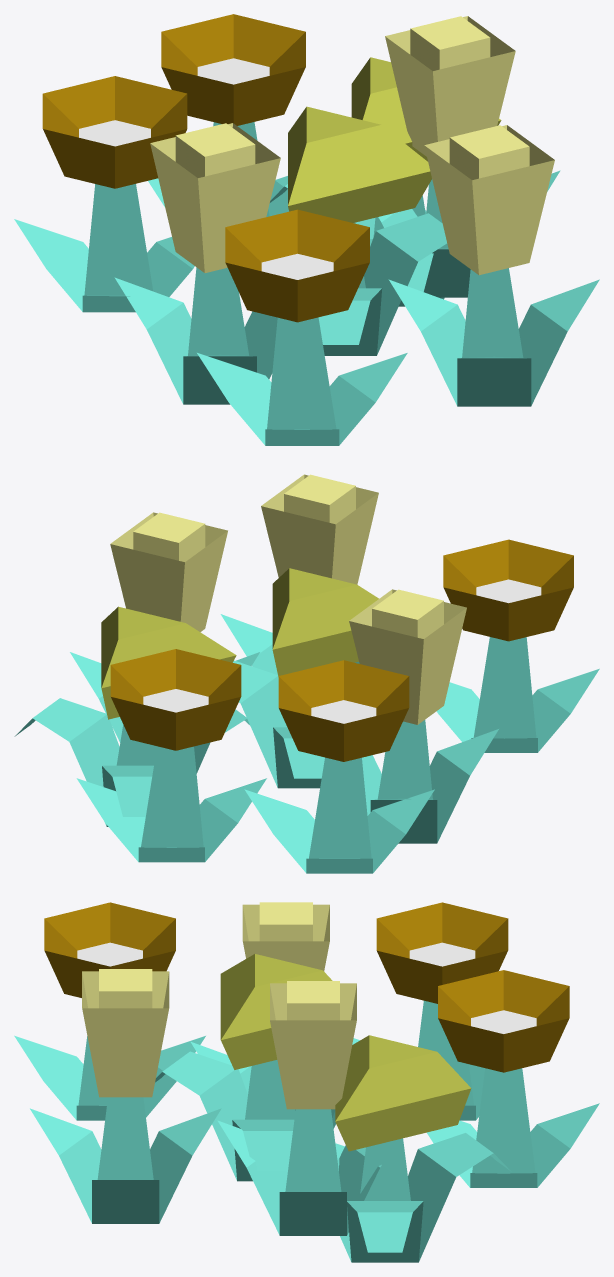
Rendered from floweryerrow03.fbx.
3 renders of one model, top to bottom at view 1: azimuth 30°, elevation 25°; view 2: azimuth 150°, elevation 25°; view 3: azimuth 270°, elevation 25°, orthographic. The views are drawn at different scales.
Visible parts, largest first — view 1: flower_purpleB3; view 2: flower_purpleB3; view 3: flower_purpleB3.
Boxes of the visible parts, <box> form: flower_purpleB3: <box>14,14,599,445</box>; flower_purpleB3: <box>14,474,599,873</box>; flower_purpleB3: <box>14,902,599,1262</box>.
Bounding box in the file's own units: 4.55 × 2.76 × 5.51.
